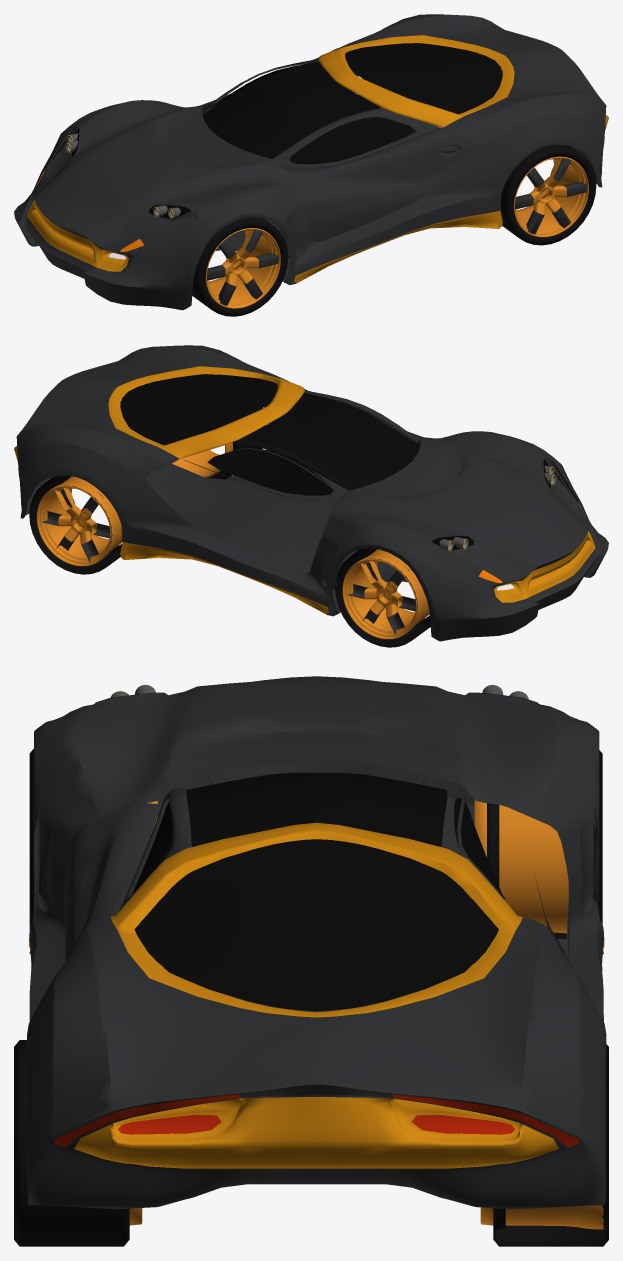
The model's file is coupeox.glb.
3 views of the same model, one above another, from view 1: azimuth 30°, elevation 25°; view 2: azimuth 150°, elevation 25°; view 3: azimuth 270°, elevation 25° (orthographic). The views are drawn at different scales.
Parts seen in each view (by area): view 1: Object_2, Object_11, Object_9, Object_5, Object_19, Object_18, Object_15, Object_14; view 2: Object_2, Object_11, Object_5, Object_19, Object_17, Object_16, Object_9, Object_15, Object_14, Object_10; view 3: Object_2, Object_11, Object_5, Object_19, Object_9, Object_16, Object_7, Object_17.
Part boxes in pixels (x1,y1,x2,y2): Object_2: (14, 14, 606, 310); Object_11: (203, 43, 502, 164); Object_9: (195, 48, 586, 305); Object_5: (27, 35, 608, 283); Object_19: (192, 96, 596, 316); Object_18: (205, 228, 280, 308); Object_15: (513, 156, 588, 237); Object_14: (221, 158, 570, 286); Object_2: (16, 345, 608, 641); Object_11: (120, 374, 420, 495); Object_5: (14, 366, 595, 614); Object_19: (29, 408, 430, 647); Object_17: (36, 476, 122, 566); Object_16: (342, 549, 429, 639); Object_9: (165, 380, 425, 635); Object_15: (54, 442, 232, 544); Object_14: (360, 561, 402, 617); Object_10: (42, 489, 110, 562); Object_2: (27, 676, 606, 1209); Object_11: (132, 772, 502, 1010); Object_5: (29, 822, 604, 1168); Object_19: (14, 748, 608, 1246); Object_9: (64, 786, 572, 967); Object_16: (474, 799, 568, 933); Object_7: (54, 1094, 579, 1147); Object_17: (480, 1126, 603, 1229).
Size of the model in its own units: 1 by 0.2695 by 0.5054.
